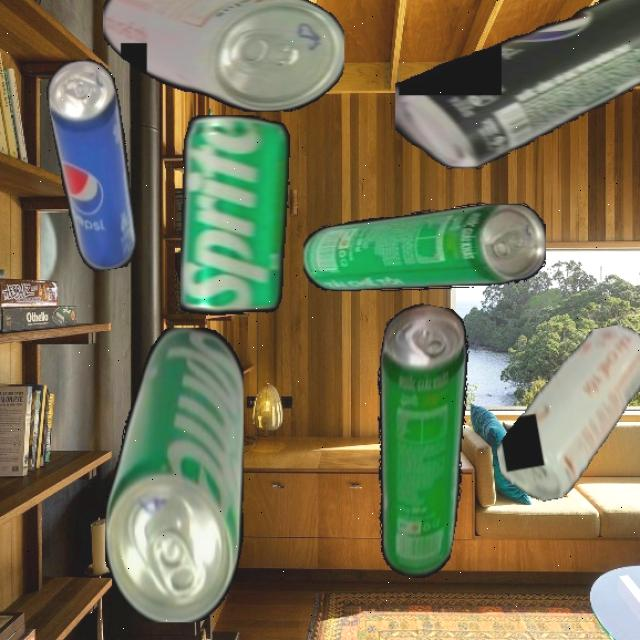debris: (344, 299, 492, 582), (394, 0, 640, 169), (104, 327, 244, 622), (479, 320, 640, 507), (180, 114, 324, 316), (102, 0, 344, 112), (42, 56, 147, 274), (302, 203, 546, 291)
